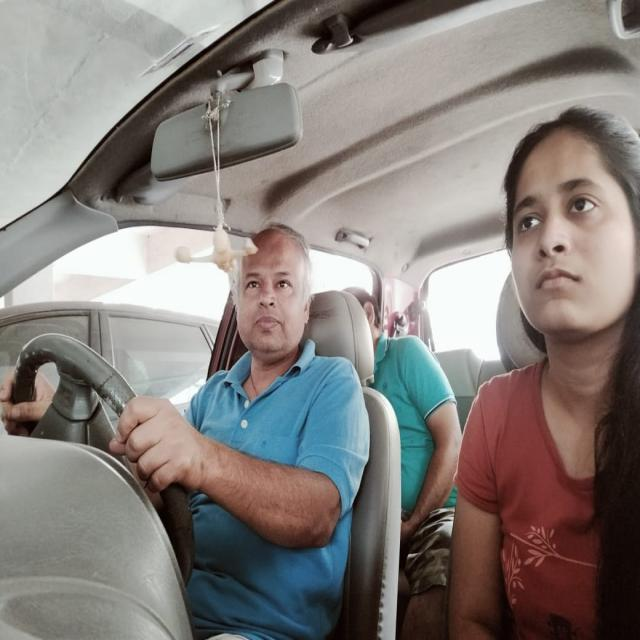person: (498, 104, 640, 364), (236, 225, 314, 362)
